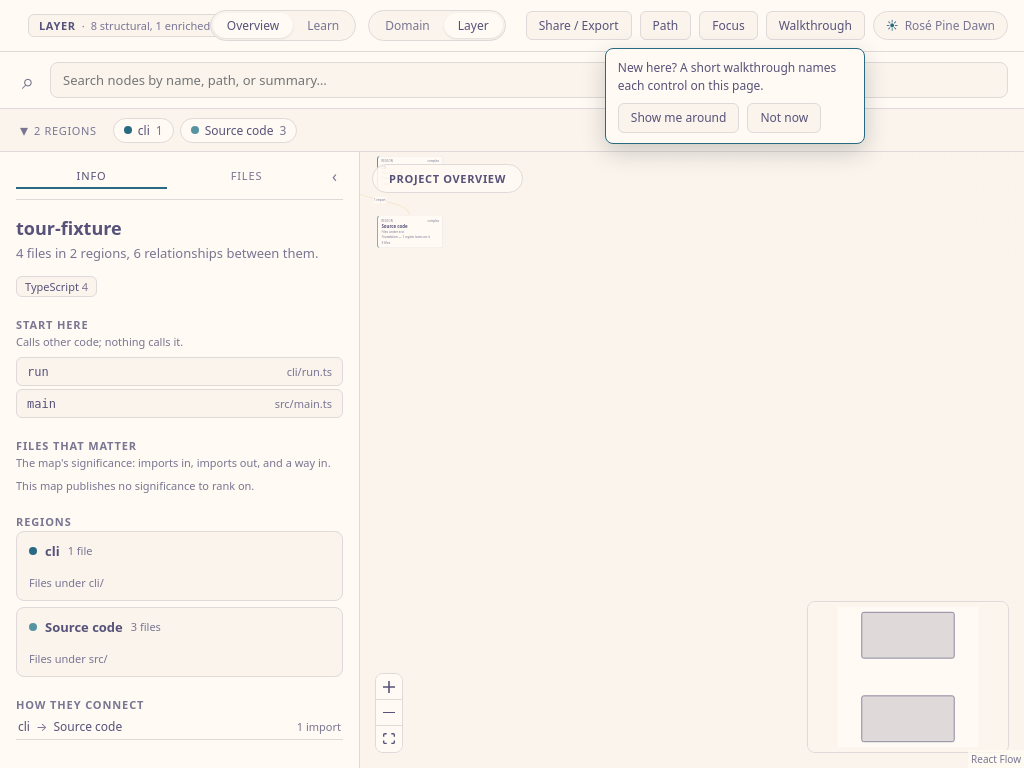
Test: the codebase tour › walks the tour step by step, moving the canvas selection
Step 1. Click the radio button labelled "Learn" → (323, 26), box 293,13 -> 353,38
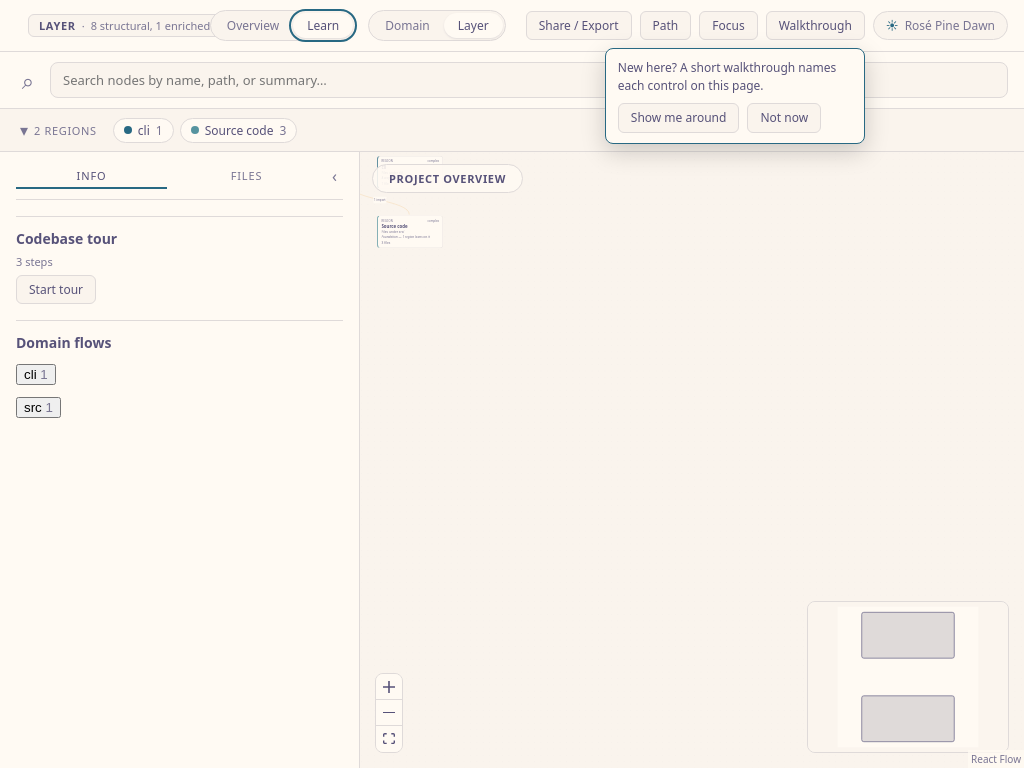
Step 2. Click the button "Start tour" → (56, 290), box 16,275 -> 96,304
(page scrolled)
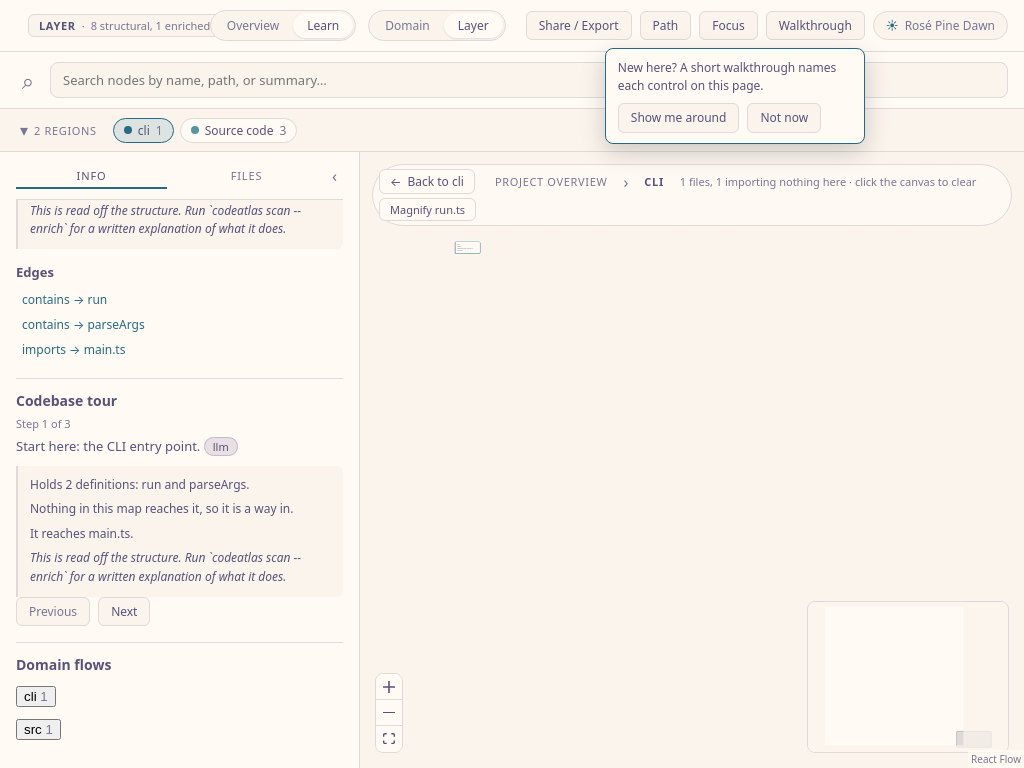
Check: the text "Step 1 of 3" is shown, box 16,416 -> 71,431
Check: the text "Start here: the CLI entry point." is shown, box 16,437 -> 200,455
Step 3. Click the button "Next" → (124, 611), box 98,597 -> 150,626
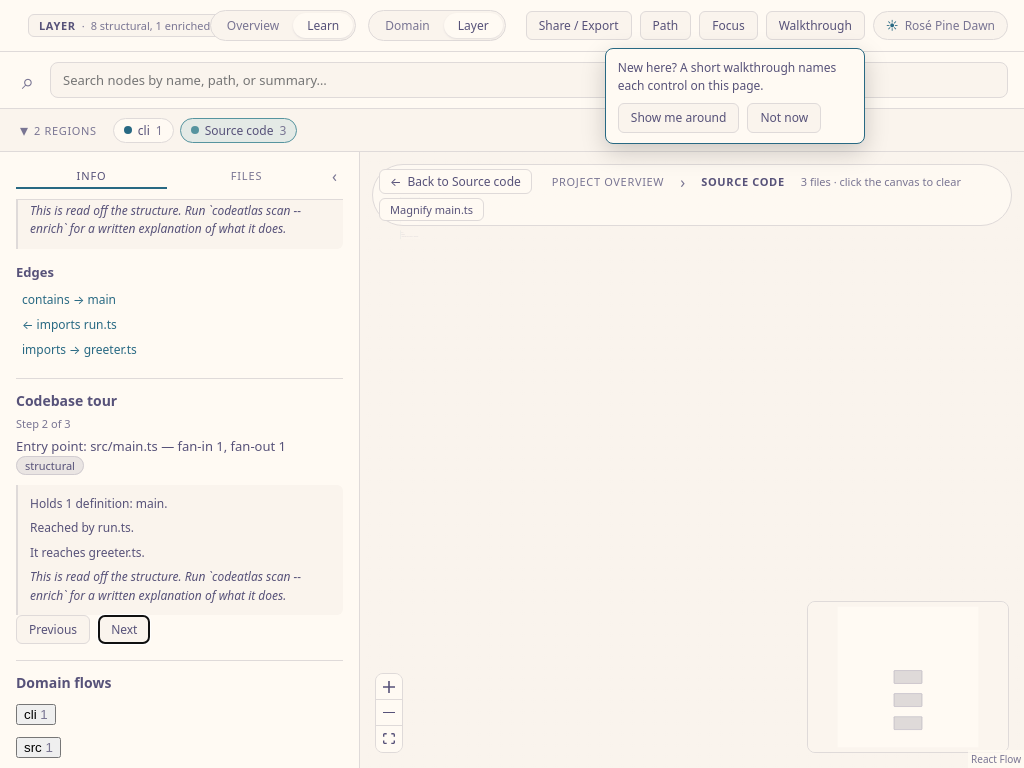
Check: the text "Step 2 of 3" is shown, box 16,416 -> 71,431
Check: the text "Entry point: src/main.ts — fan-in 1, fan-out 1" is shown, box 16,437 -> 286,455
Step 4. Click the button "Previous" → (53, 630), box 16,616 -> 90,644
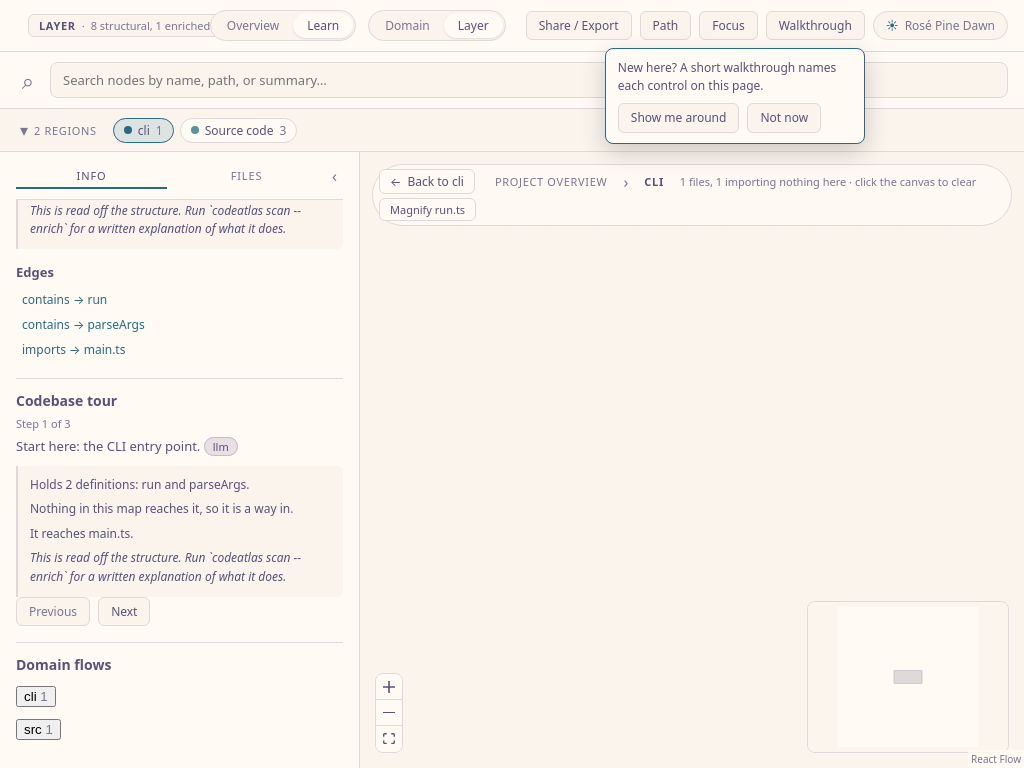
Check: the text "Step 1 of 3" is shown, box 16,416 -> 71,431
